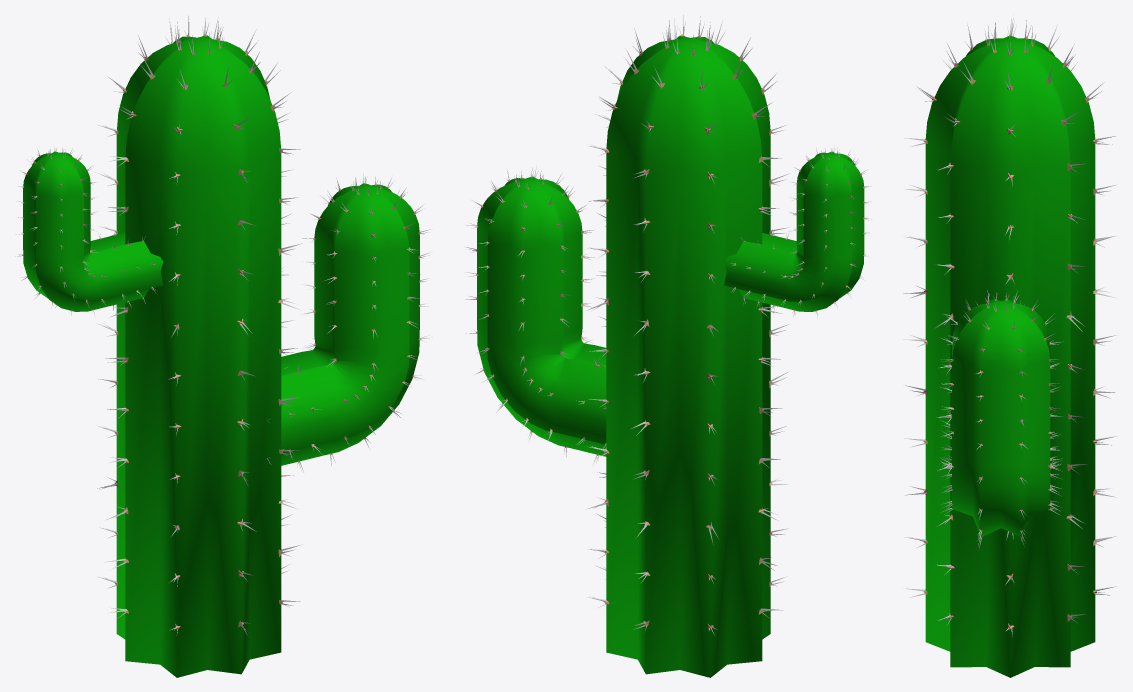
Rendered from cactus_2.fbx.
3 views of the same model, side by side, from view 1: azimuth 30°, elevation 25°; view 2: azimuth 150°, elevation 25°; view 3: azimuth 270°, elevation 25° (orthographic).
Visible parts, largest first — view 1: Cylinder, Cylinder.001, Cylinder.003; view 2: Cylinder, Cylinder.001, Cylinder.003; view 3: Cylinder, Cylinder.001.
Boxes of the visible parts, <box> form: Cylinder: <box>95,16,301,677</box>; Cylinder.001: <box>266,173,432,472</box>; Cylinder.003: <box>15,147,163,315</box>; Cylinder: <box>586,15,789,677</box>; Cylinder.001: <box>464,167,606,464</box>; Cylinder.003: <box>724,145,871,318</box>; Cylinder: <box>903,17,1117,677</box>; Cylinder.001: <box>940,290,1063,548</box>.
Bounding box in the file's own units: 134 × 201 × 63.64.
